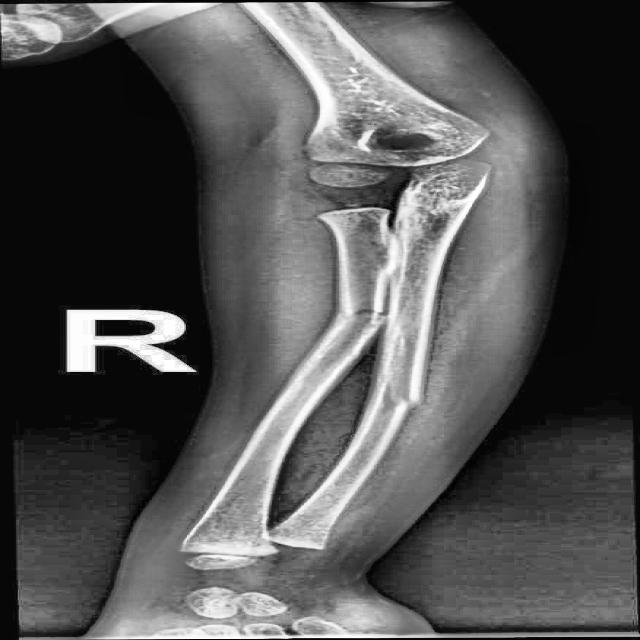angle: (368, 382, 425, 407), (336, 308, 390, 318)
